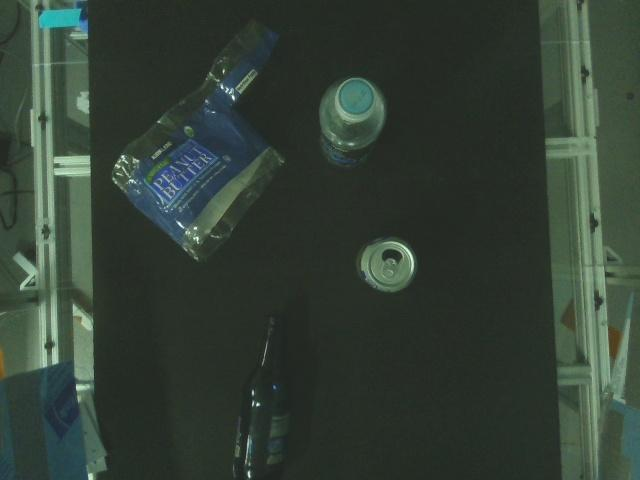glass: (231, 314, 294, 480)
metal: (355, 233, 420, 295)
plastic: (111, 18, 286, 263), (317, 73, 388, 170)
